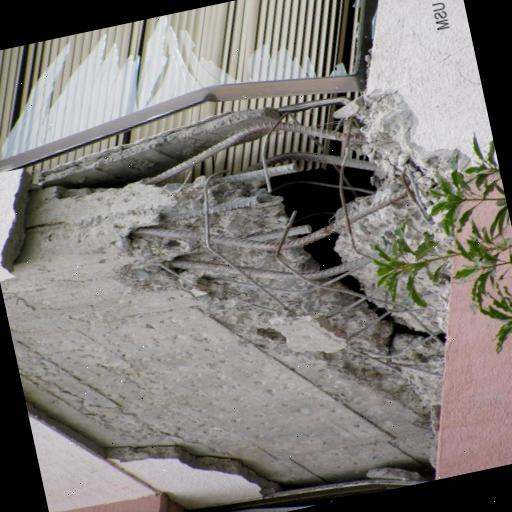spalling: (86, 92, 428, 355)
